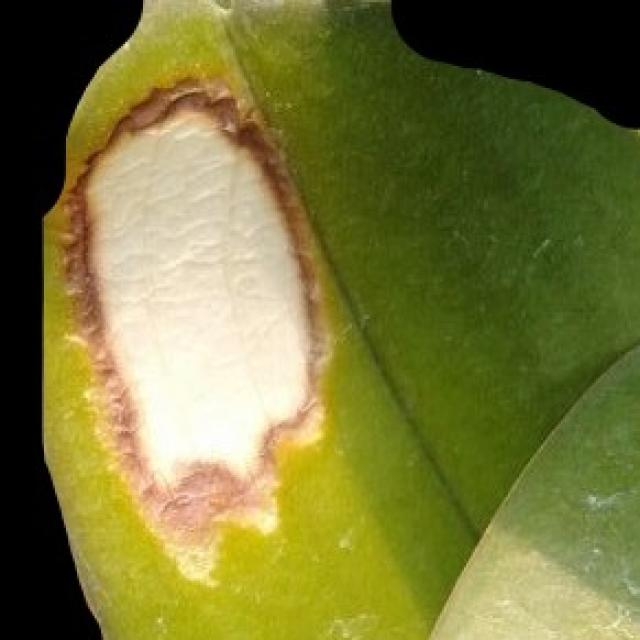mite: (402, 325, 638, 638), (387, 0, 638, 132), (532, 334, 638, 638), (572, 409, 638, 629), (576, 477, 638, 515), (315, 609, 380, 638)
spots: (37, 0, 638, 638)
sunburn: (55, 73, 336, 563)
